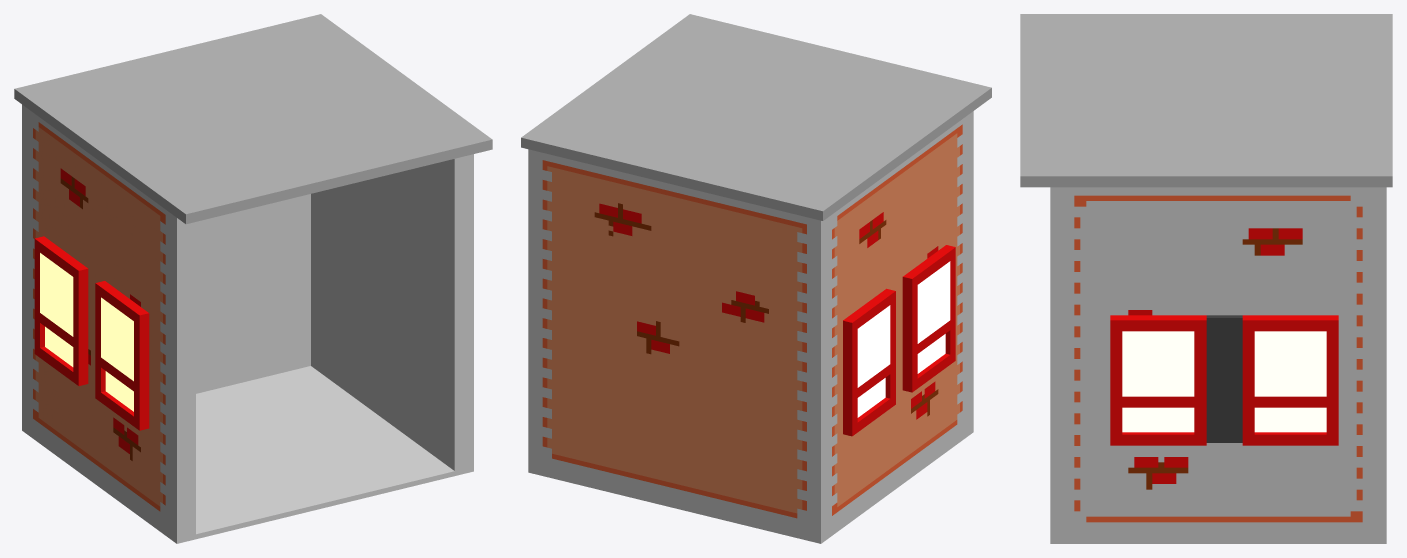
Rendered from TypeTwelve.glb.
The picture shows the model from 3 angles, left to right: view 1: azimuth 30°, elevation 25°; view 2: azimuth 150°, elevation 25°; view 3: azimuth 270°, elevation 25°; orthographic projection. The views are drawn at different scales.
Visible parts, largest first — view 1: ObjObject; view 2: ObjObject; view 3: ObjObject.
Part boxes in pixels (left/top/right/bottom): ObjObject: left=14, top=14, right=492, bottom=543; ObjObject: left=521, top=14, right=991, bottom=543; ObjObject: left=1020, top=14, right=1392, bottom=543.
Bounding box in the file's own units: 6.6 × 6.8 × 6.2.
3 materials, 1 textured.
